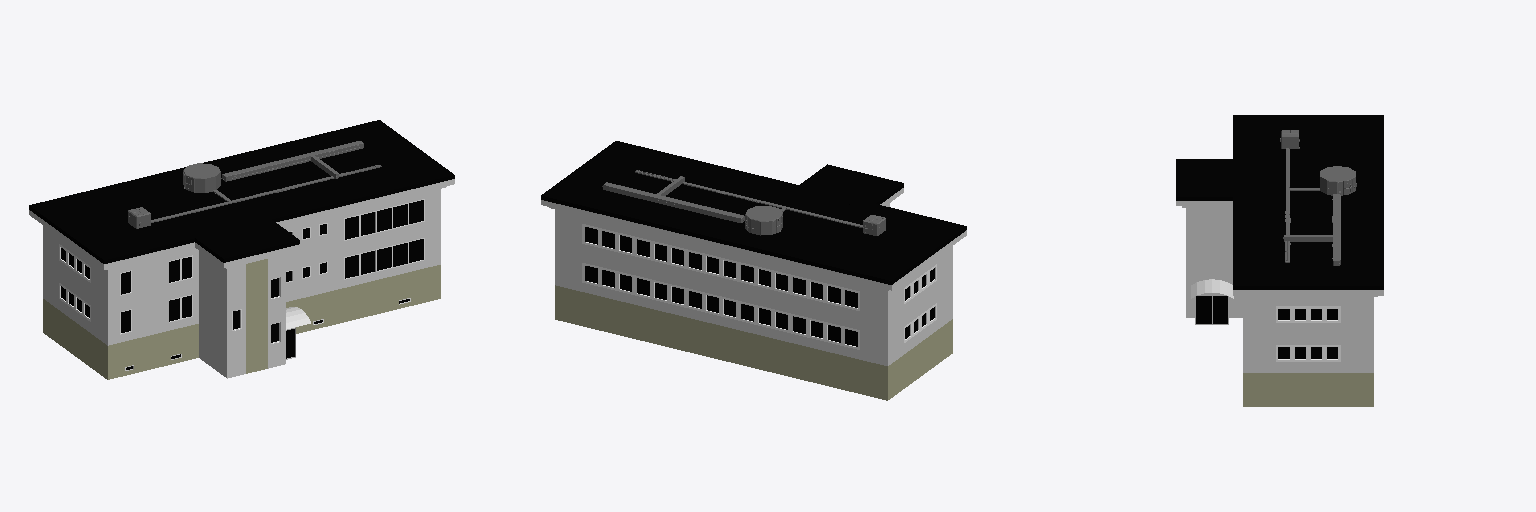
File: MathBuilding.obj
The picture shows the model from 3 angles: view 1: azimuth 30°, elevation 25°; view 2: azimuth 150°, elevation 25°; view 3: azimuth 270°, elevation 25°; orthographic projection.
Visible parts, largest first — view 1: roof, Main, details, window, Other, Cadre; view 2: roof, Main, details, window, Cadre, Other; view 3: roof, Main, details, Other, window, Cadre.
Part boxes in pixels (bbox=[...]): roof: bbox=[29, 120, 454, 263]; Main: bbox=[29, 179, 454, 378]; details: bbox=[43, 259, 440, 379]; window: bbox=[61, 200, 423, 369]; Other: bbox=[128, 141, 381, 228]; Cadre: bbox=[59, 199, 424, 370]; roof: bbox=[541, 141, 966, 284]; Main: bbox=[541, 188, 966, 365]; details: bbox=[555, 285, 952, 400]; window: bbox=[585, 227, 934, 346]; Cadre: bbox=[582, 224, 936, 349]; Other: bbox=[602, 170, 885, 235]; roof: bbox=[1176, 115, 1383, 289]; Main: bbox=[1176, 201, 1383, 372]; details: bbox=[1243, 373, 1373, 406]; Other: bbox=[1280, 130, 1356, 265]; window: bbox=[1196, 296, 1337, 358]; Cadre: bbox=[1276, 306, 1340, 361].
Size of the model in its own units: 152 by 57.92 by 77.68.